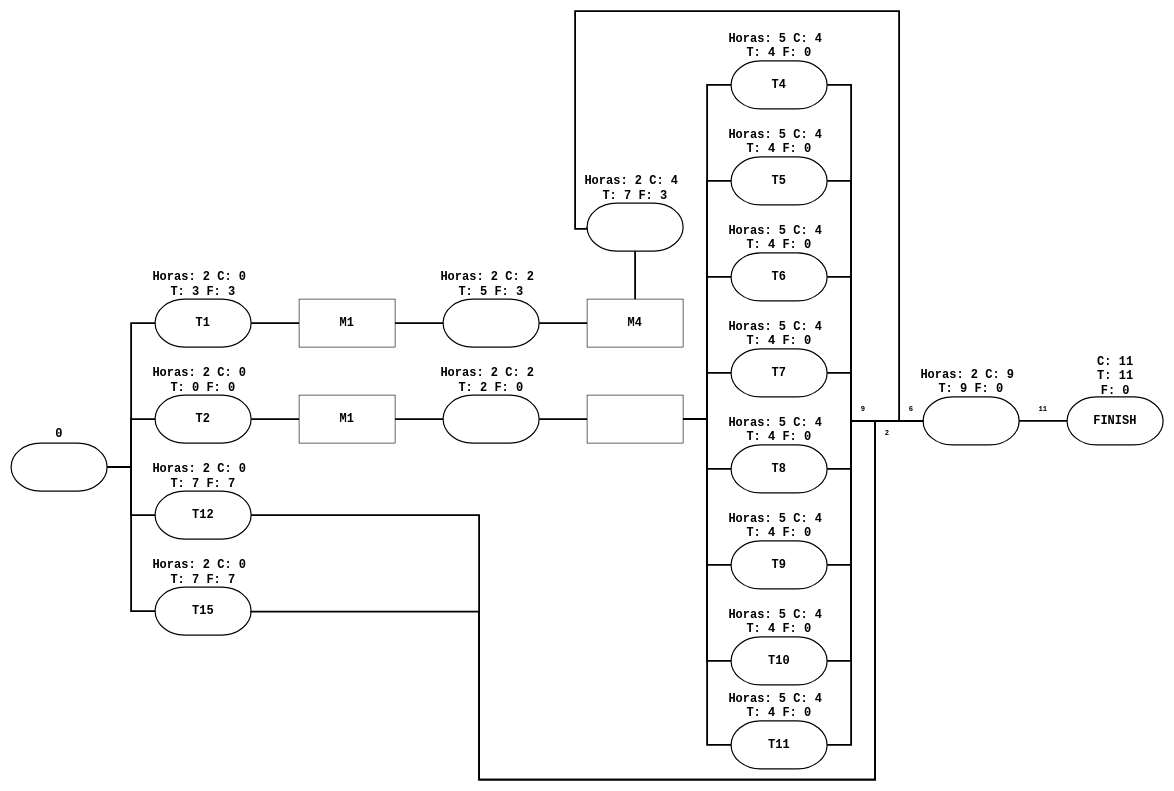
Image size: 1174x791. Some labels were removed from this diagram. Each missing label, with the centre of its shape:
M2: (634,418)
START: (58,466)
T13: (490,322)
T14: (634,226)
T16: (970,420)
T3: (490,418)
